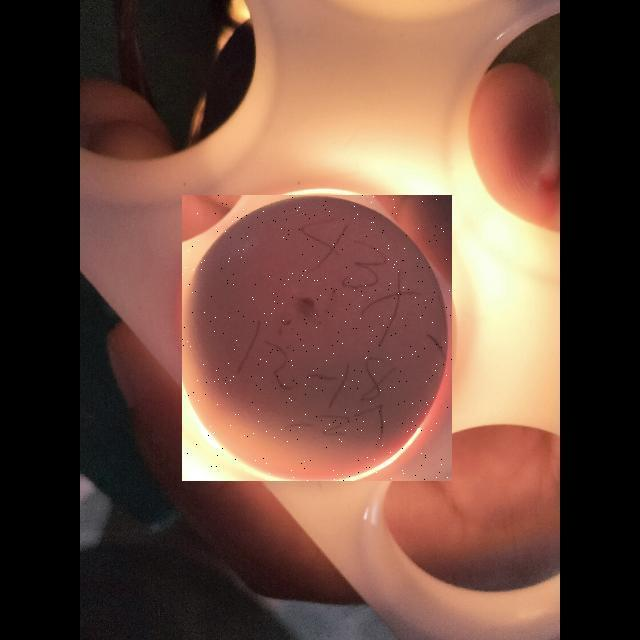AA - Premium: (181, 199, 457, 478)
